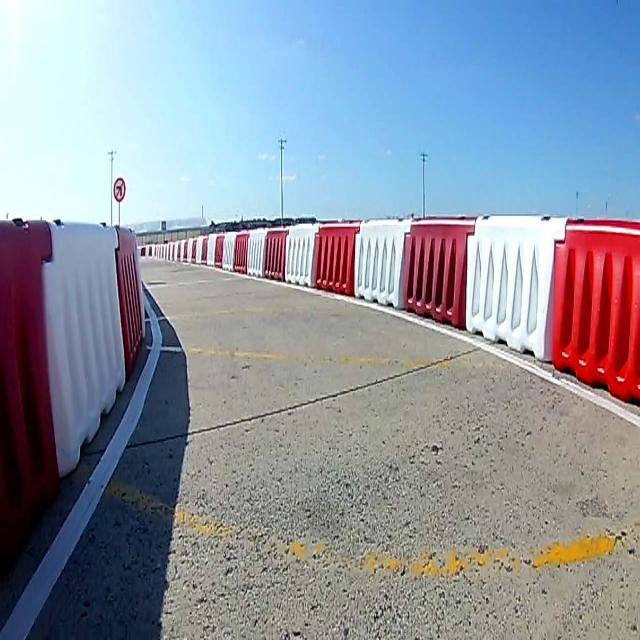soladonulmez: (113, 176, 127, 203)
